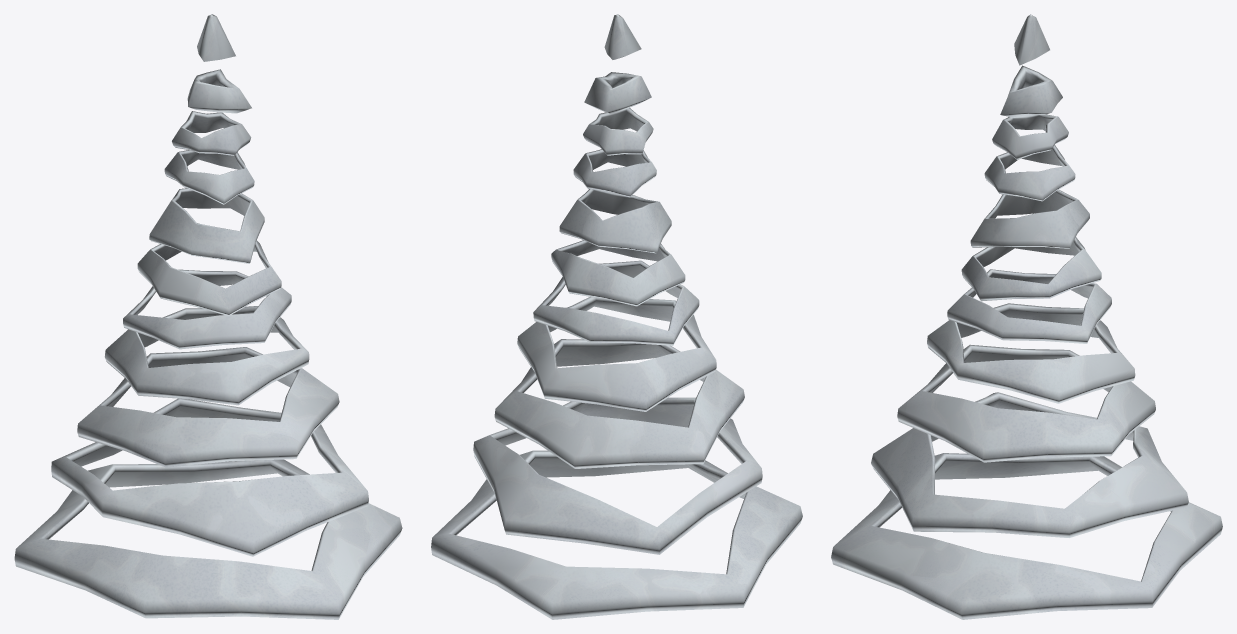
The model's file is PineTree_6_Snow.fbx.
3 renders of one model, left to right at view 1: azimuth 30°, elevation 25°; view 2: azimuth 150°, elevation 25°; view 3: azimuth 270°, elevation 25°, orthographic.
Parts seen in each view (by area): view 1: PineTree_6_Snow_LOD0; view 2: PineTree_6_Snow_LOD0; view 3: PineTree_6_Snow_LOD0.
Part boxes in pixels (box(x1,y1,x2,y2)): PineTree_6_Snow_LOD0: box(14, 14, 402, 619); PineTree_6_Snow_LOD0: box(431, 14, 802, 619); PineTree_6_Snow_LOD0: box(831, 14, 1222, 619).
Size of what is drawn, in the model's own units: 1013 by 1639 by 1084.
